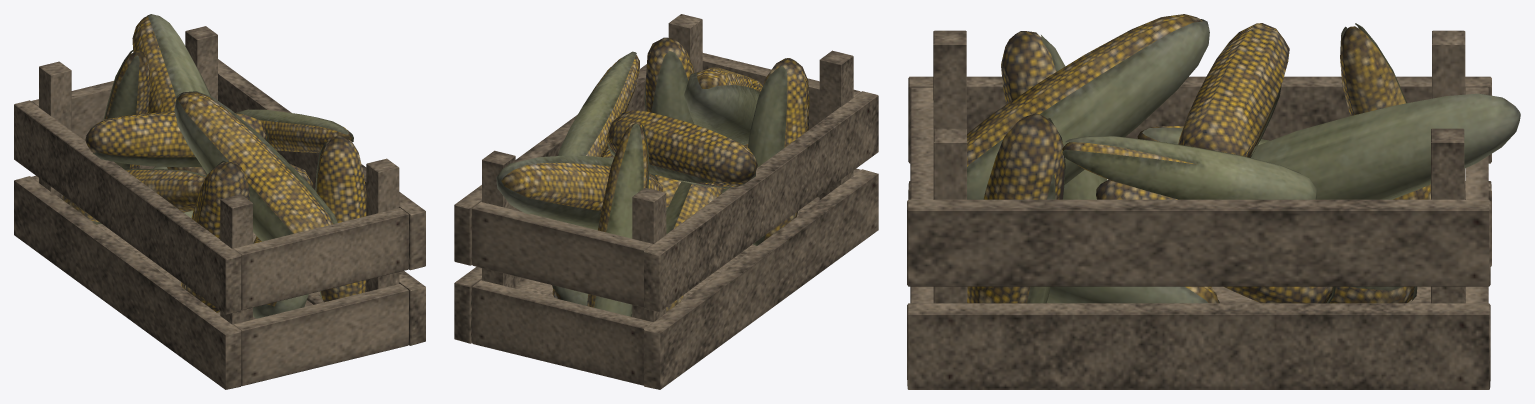
Rendered from SM_FAR_CornBox_01.fbx.
The picture shows the model from 3 angles, left to right: view 1: azimuth 30°, elevation 25°; view 2: azimuth 150°, elevation 25°; view 3: azimuth 270°, elevation 25°; orthographic projection. The views are drawn at different scales.
Visible parts, largest first — view 1: SM_FAR_CornBox_01.mo; view 2: SM_FAR_CornBox_01.mo; view 3: SM_FAR_CornBox_01.mo.
Boxes of the visible parts, x1,y1,x2,y2 form: SM_FAR_CornBox_01.mo: (14,14,425,389); SM_FAR_CornBox_01.mo: (454,14,878,389); SM_FAR_CornBox_01.mo: (907,14,1520,389).
Bounding box in the file's own units: 30.02 × 28.44 × 55.47.
